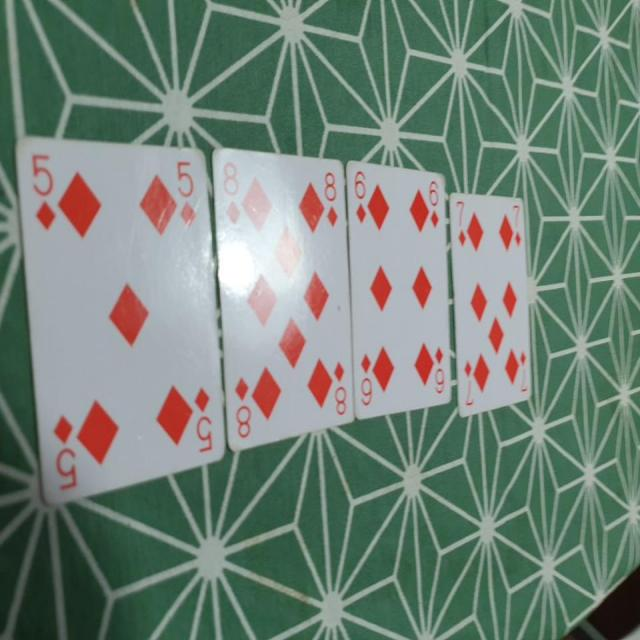5 Diamonds: (14, 129, 227, 502)
6 Diamonds: (346, 158, 451, 422)
7 Diamonds: (449, 190, 534, 417)
8 Diamonds: (212, 144, 354, 451)
